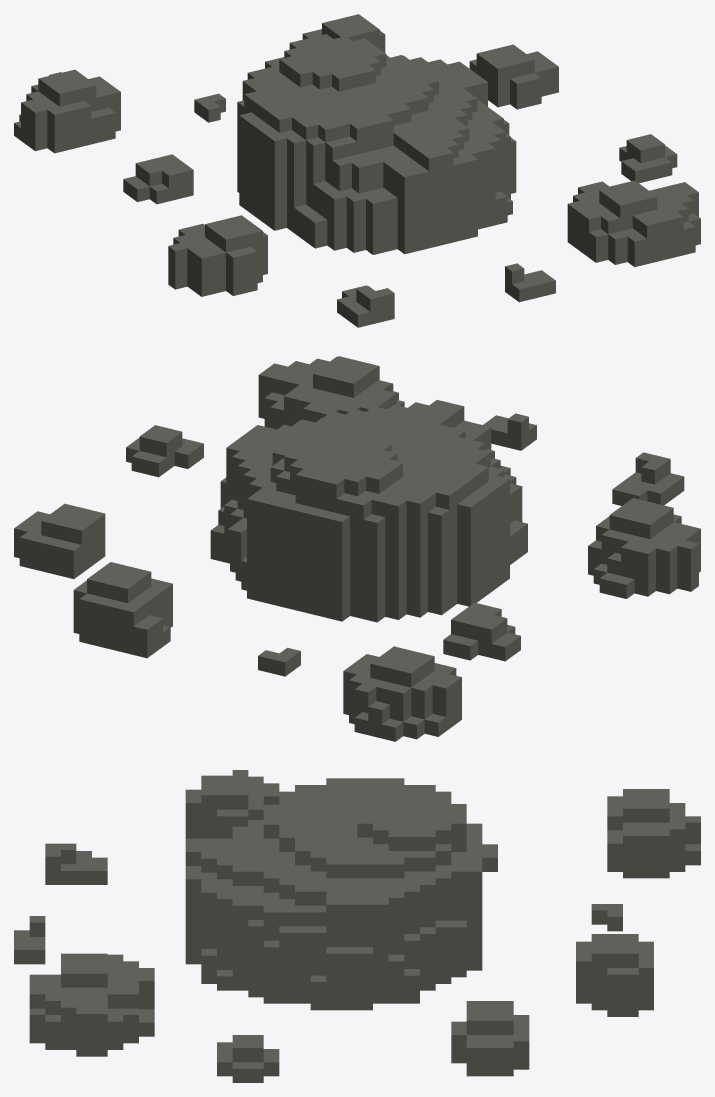
The model's file is prop-0-boulder.obj.
3 renders of one model, top to bottom at view 1: azimuth 30°, elevation 25°; view 2: azimuth 150°, elevation 25°; view 3: azimuth 270°, elevation 25°, orthographic. The views are drawn at different scales.
Parts seen in each view (by area): view 1: boulder; view 2: boulder; view 3: boulder.
Part boxes in pixels (x1,y1,x2,y2): boulder: (14, 14, 700, 327); boulder: (14, 356, 700, 741); boulder: (14, 770, 700, 1082).
Bounding box in the file's own units: 4.1 × 0.9 × 4.4.
1 material, 1 textured.
